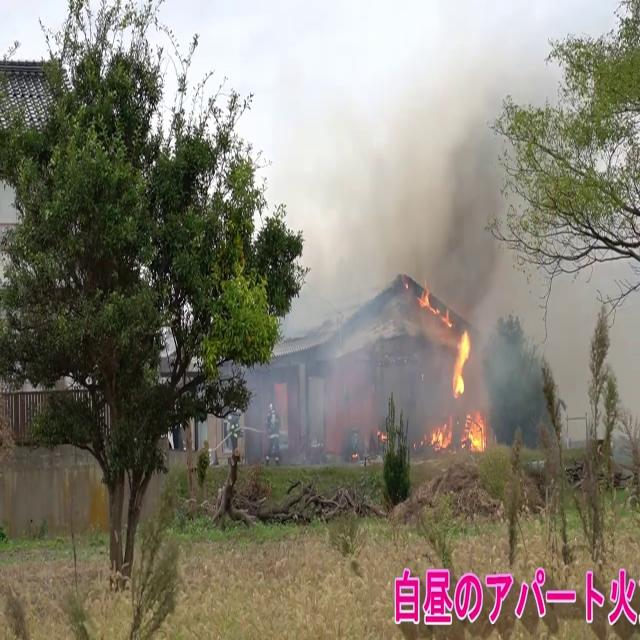Fire: (428, 321, 490, 456)
Smoke: (270, 24, 560, 428)
